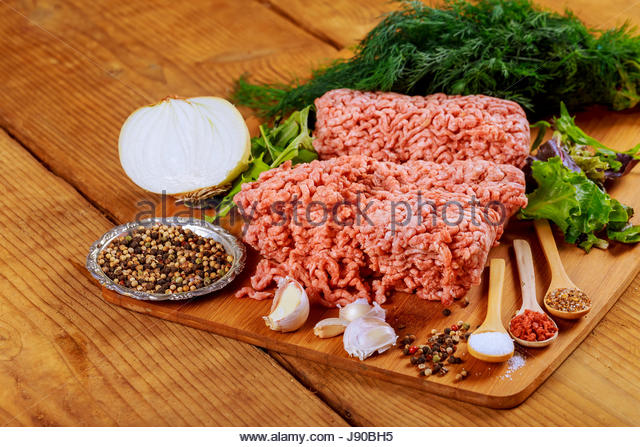ground_beef: (258, 147, 511, 313), (311, 87, 534, 201)
